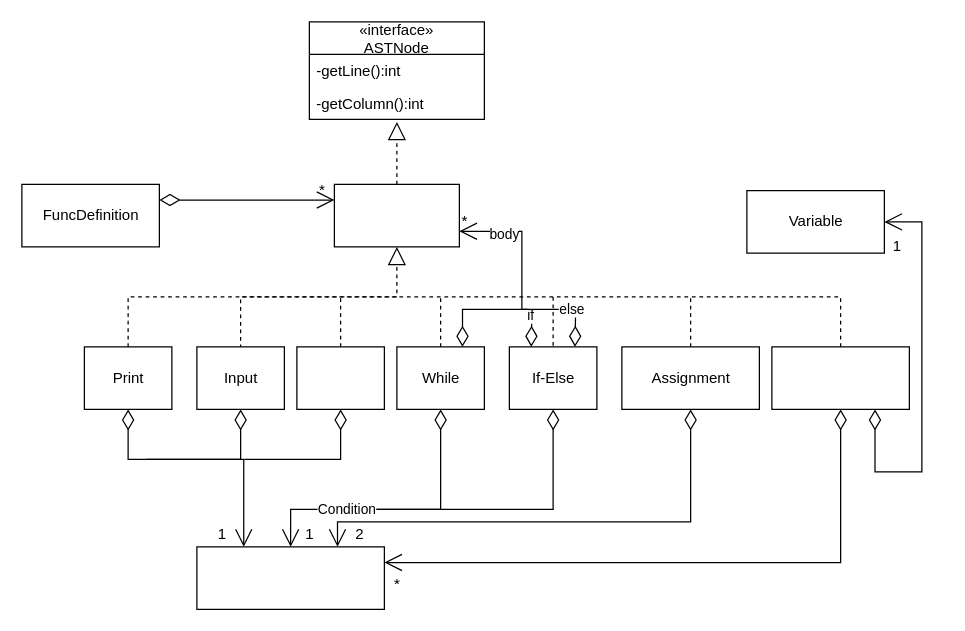
The diagram is 965 pixels wide and 631 high, and some of its shapes have lost their labels. The centre of each missing label's shape, as x and y in pixels:
"FunctionInvocation" belongs at pixel 840 377.
"Return" belongs at pixel 340 377.
"«interface» Expression<Type>" belongs at pixel 290 577.
"«interface» Statement" belongs at pixel 396 215.
